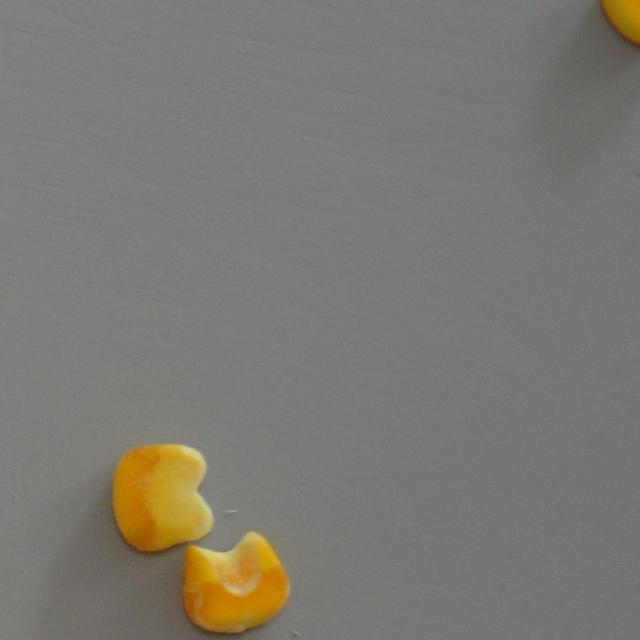no_canjicado: (110, 443, 214, 550)
pelicula: (180, 531, 290, 632)
